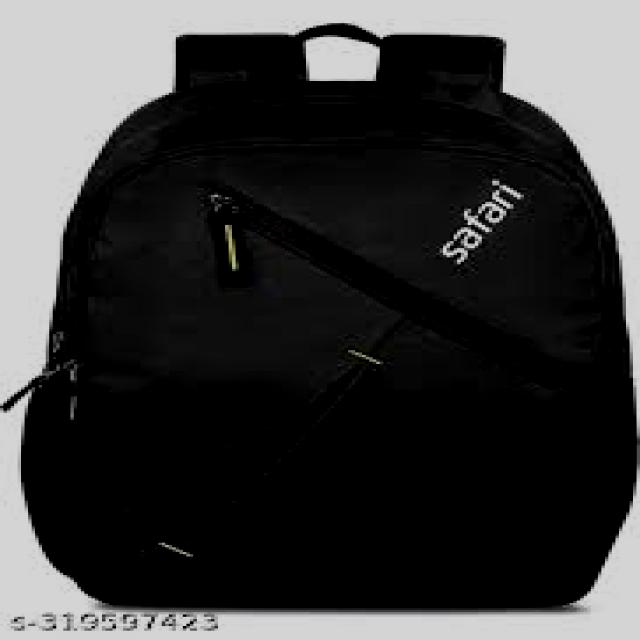backpack: (1, 21, 637, 608)
